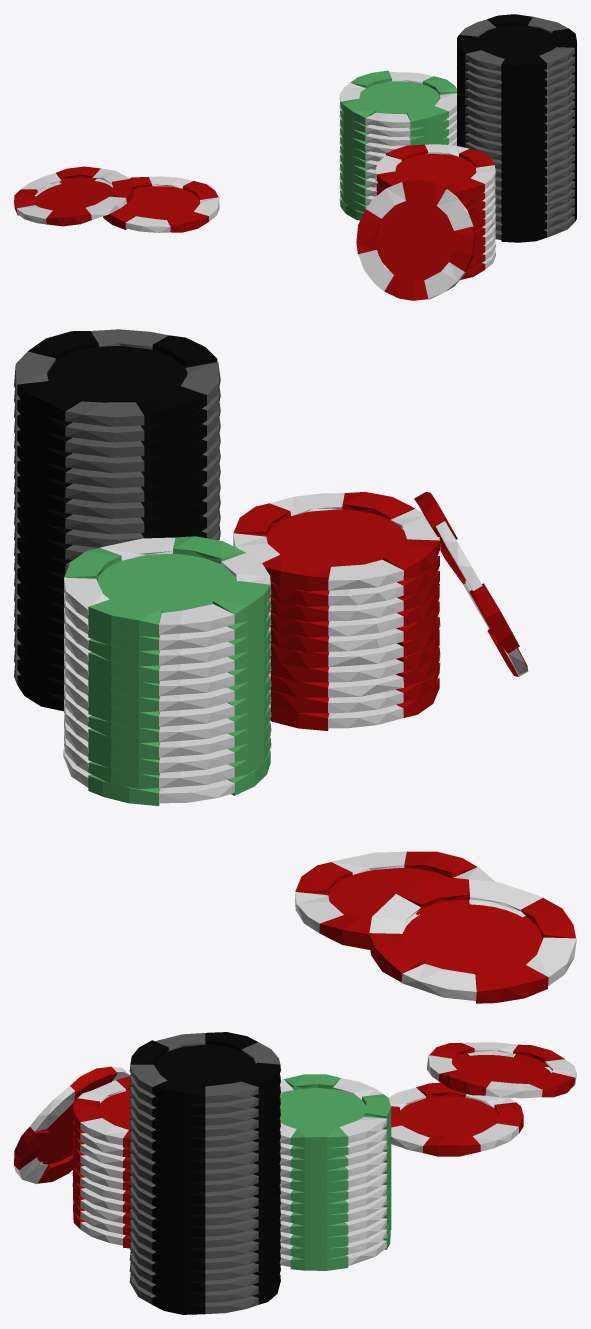
File: Chip2.obj
The picture shows the model from 3 angles, top to bottom: view 1: azimuth 30°, elevation 25°; view 2: azimuth 150°, elevation 25°; view 3: azimuth 270°, elevation 25°; orthographic projection. The views are drawn at different scales.
Visible parts, largest first — view 1: 中心.012, 中心.040, 中心.022; view 2: 中心.012, 中心.022, 中心.040, 中心.001; view 3: 中心.040, 中心.012, 中心.022, 中心.001.
Part boxes in pixels (x1,y1,x2,y2): 中心.012: (14, 144, 495, 300); 中心.040: (457, 14, 576, 242); 中心.022: (339, 70, 456, 220); 中心.012: (233, 492, 576, 1003); 中心.022: (63, 536, 271, 805); 中心.040: (14, 329, 220, 711); 中心.001: (489, 906, 542, 965); 中心.040: (129, 1032, 280, 1314); 中心.012: (14, 1042, 576, 1248); 中心.022: (280, 1074, 391, 1270); 中心.001: (452, 1055, 513, 1069).
Size of the model in its own units: 8.24 by 3.26 by 7.5.
